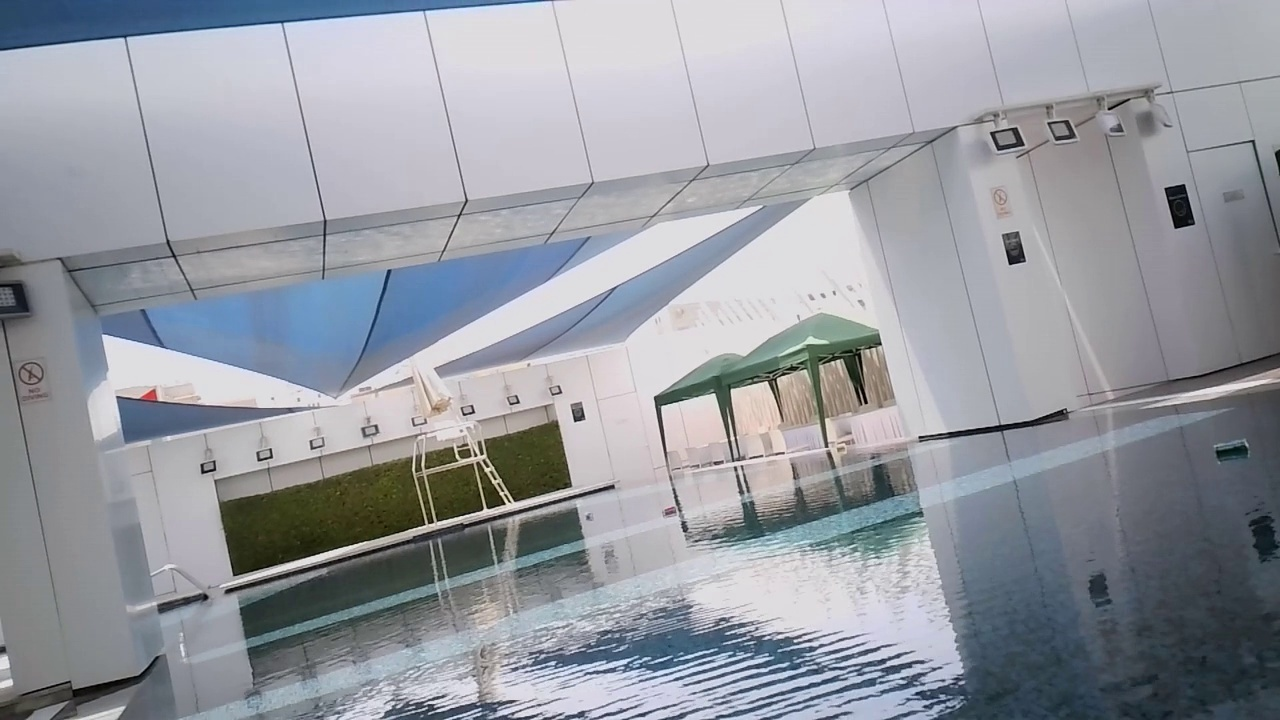debris: (1208, 435, 1256, 468), (658, 505, 683, 521), (828, 442, 849, 457), (581, 510, 596, 523)
